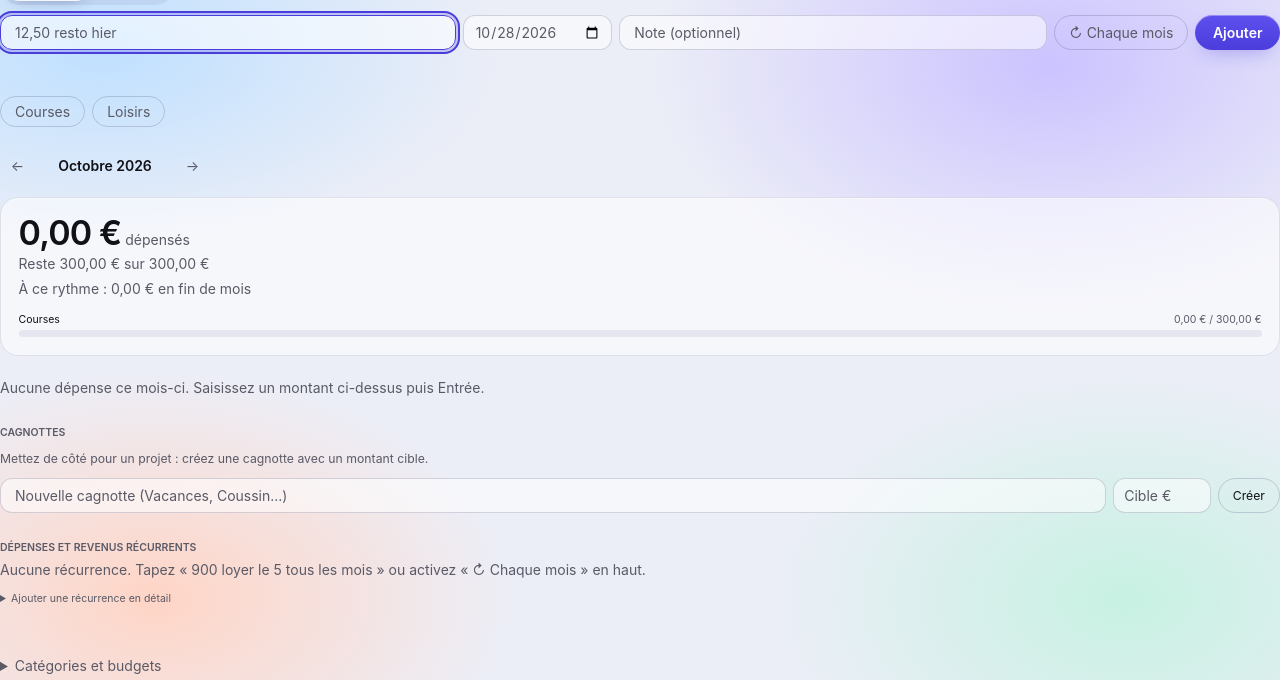
Test case: BudgetPage › crée une dépense récurrente depuis le gestionnaire
This screenshot has width=1280, height=680.
(page scrolled)
Expected: the button "Courses" is shown, [0, 96, 85, 127]
Click the heading "Ajouter une récurrence en détail". click: (91, 598)
box: [11, 592, 171, 605]
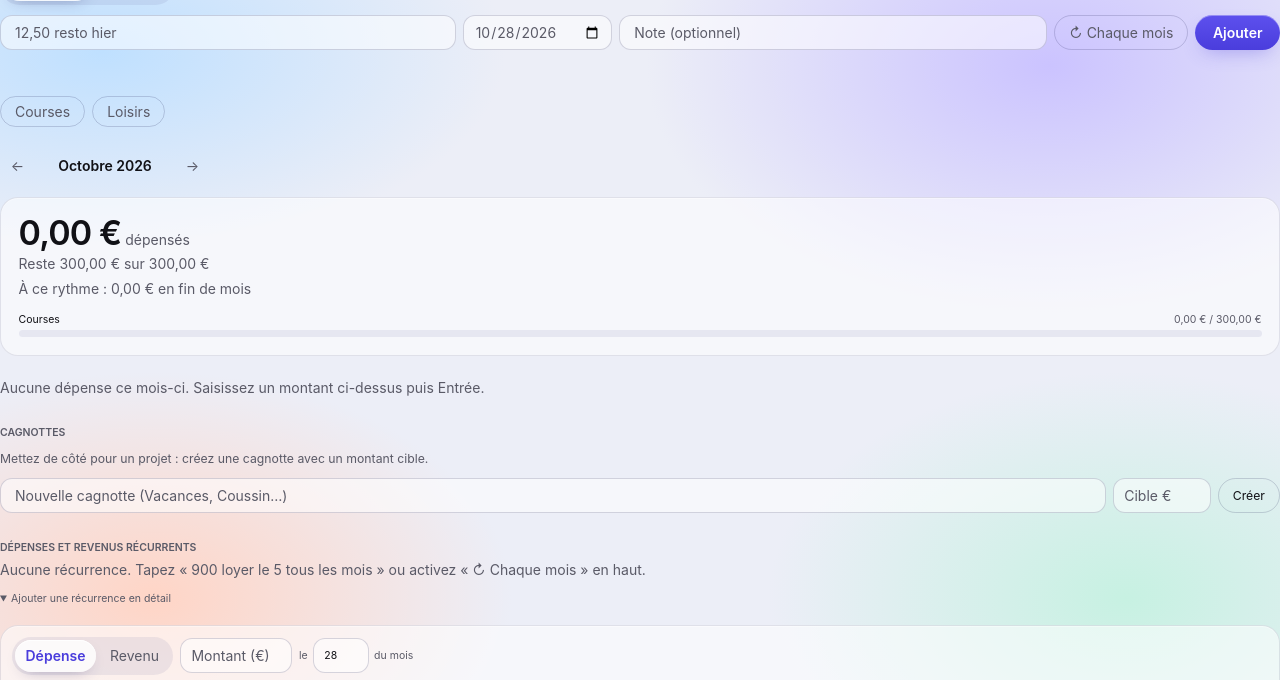
Type "900" into the field named "Montant récurrent". click: (236, 656)
box: [180, 638, 292, 673]
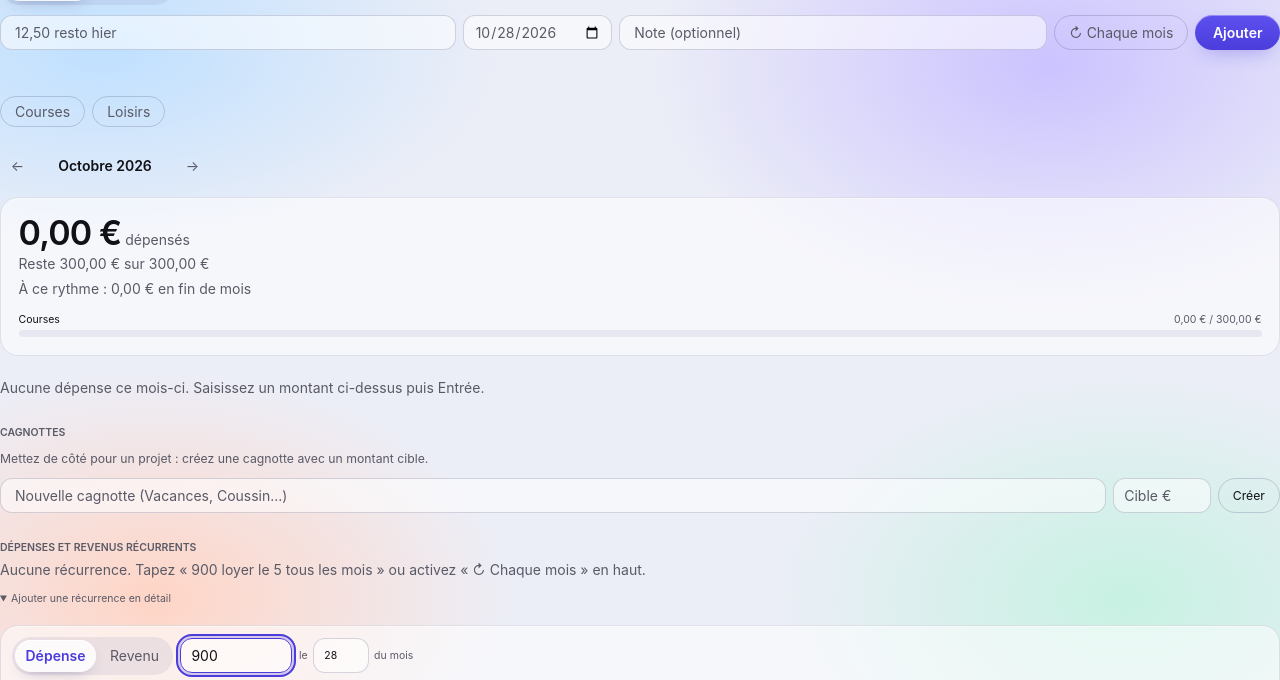
Replace the text in the number field named "Jour du mois" with "5". click: (341, 656)
box: [313, 638, 369, 673]
(page scrolled)
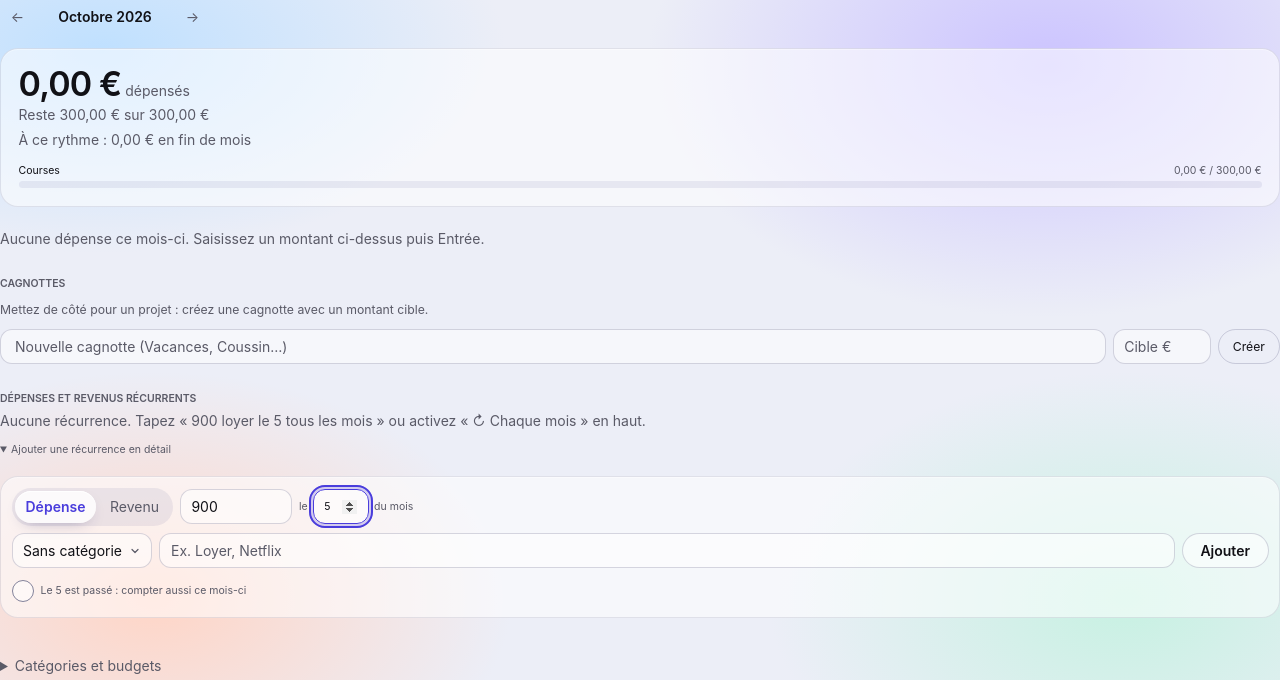
Type "Loyer" into the field named "Note récurrente". click: (667, 550)
box: [160, 533, 1175, 568]
Then press Enter
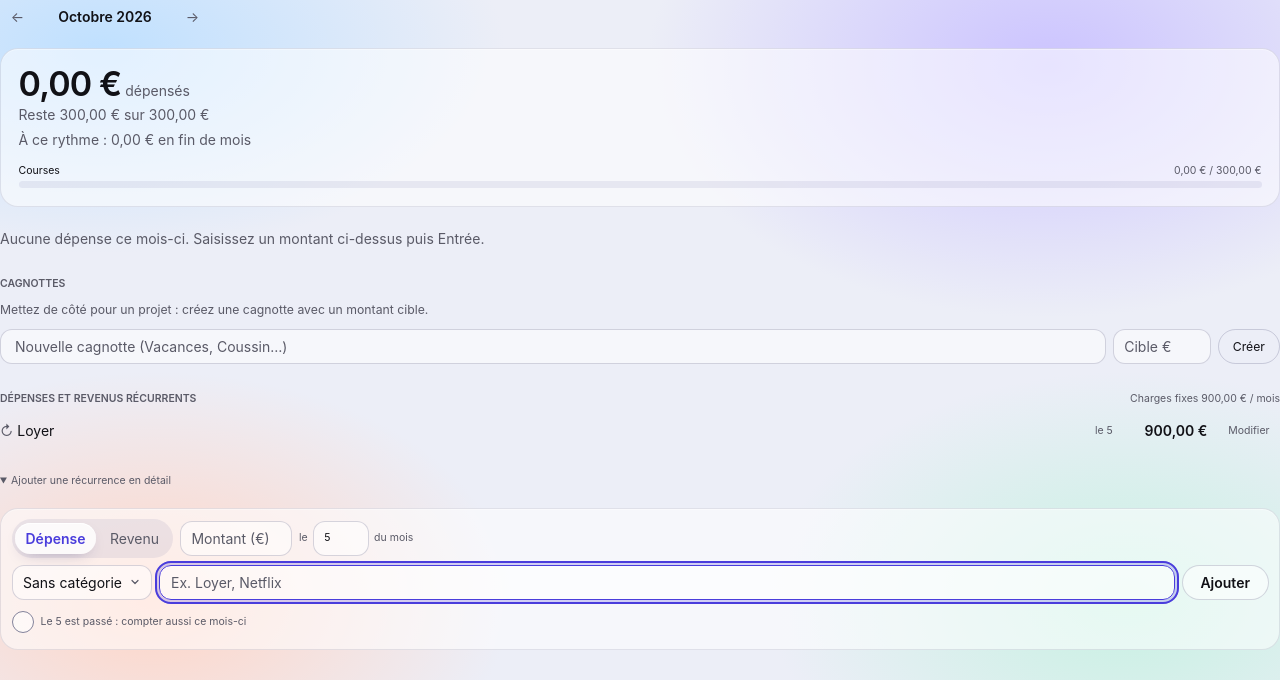
Click the button with aria-label "Modifier la récurrence « Loyer »". click: (1249, 431)
box: [1218, 415, 1279, 446]
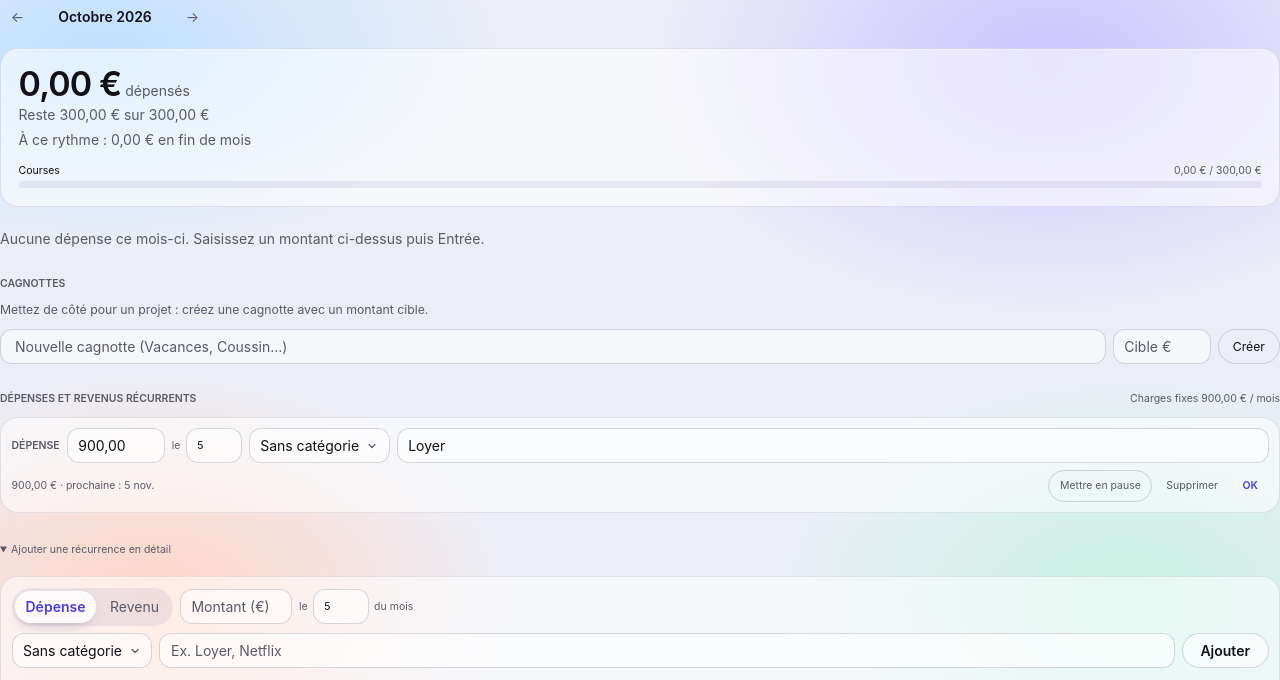
Now the field named "Montant de « Loyer »" holds "900,00", box [67, 428, 165, 463]
